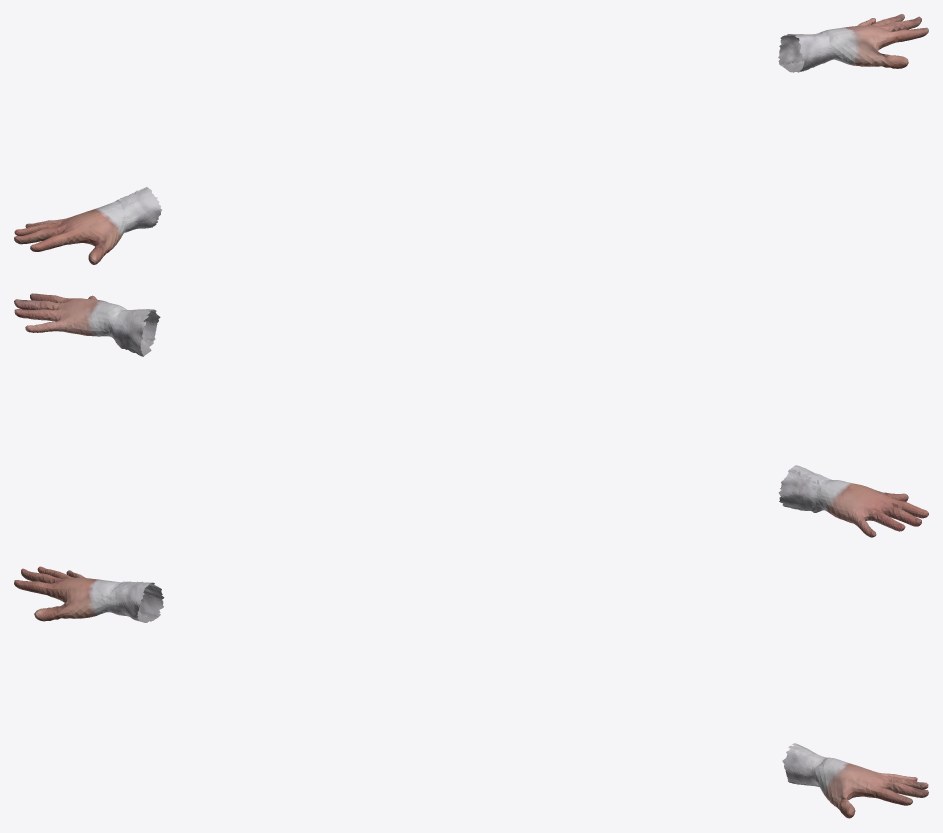
The model's file is animation_lowres.obj.
The picture shows the model from 3 angles, top to bottom: view 1: azimuth 30°, elevation 25°; view 2: azimuth 150°, elevation 25°; view 3: azimuth 330°, elevation 25°; orthographic projection.
Size of the model in its own units: 1.89 by 0.0819 by 0.1861.
